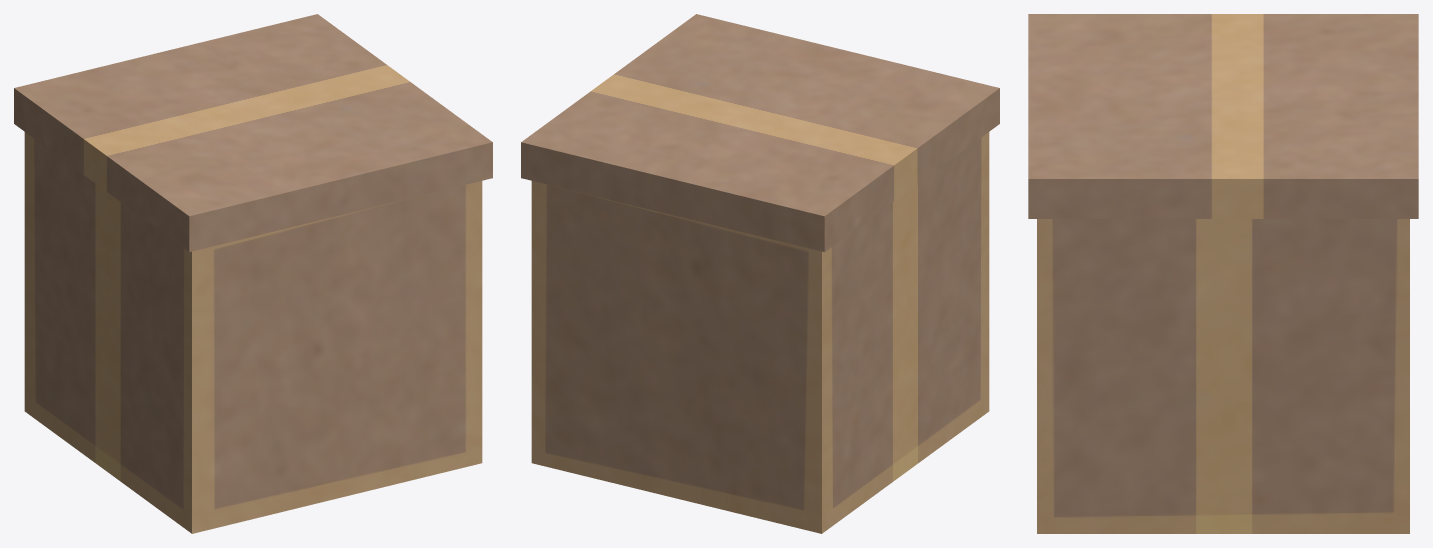
File: paczka.fbx
3 views of the same model, side by side, from view 1: azimuth 30°, elevation 25°; view 2: azimuth 150°, elevation 25°; view 3: azimuth 270°, elevation 25° (orthographic). The views are drawn at different scales.
Parts seen in each view (by area): view 1: Paczka; view 2: Paczka; view 3: Paczka.
Boxes of the visible parts, <box> form: Paczka: <box>14,14,492,533</box>; Paczka: <box>521,14,999,533</box>; Paczka: <box>1028,14,1418,533</box>.
Bounding box in the file's own units: 2975 × 3016 × 2975.
